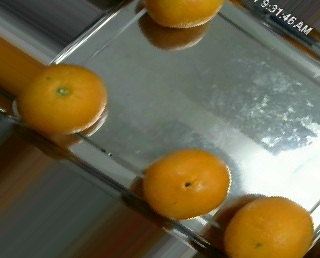Orange: (140, 146, 232, 220), (16, 62, 107, 136), (223, 196, 314, 258)
